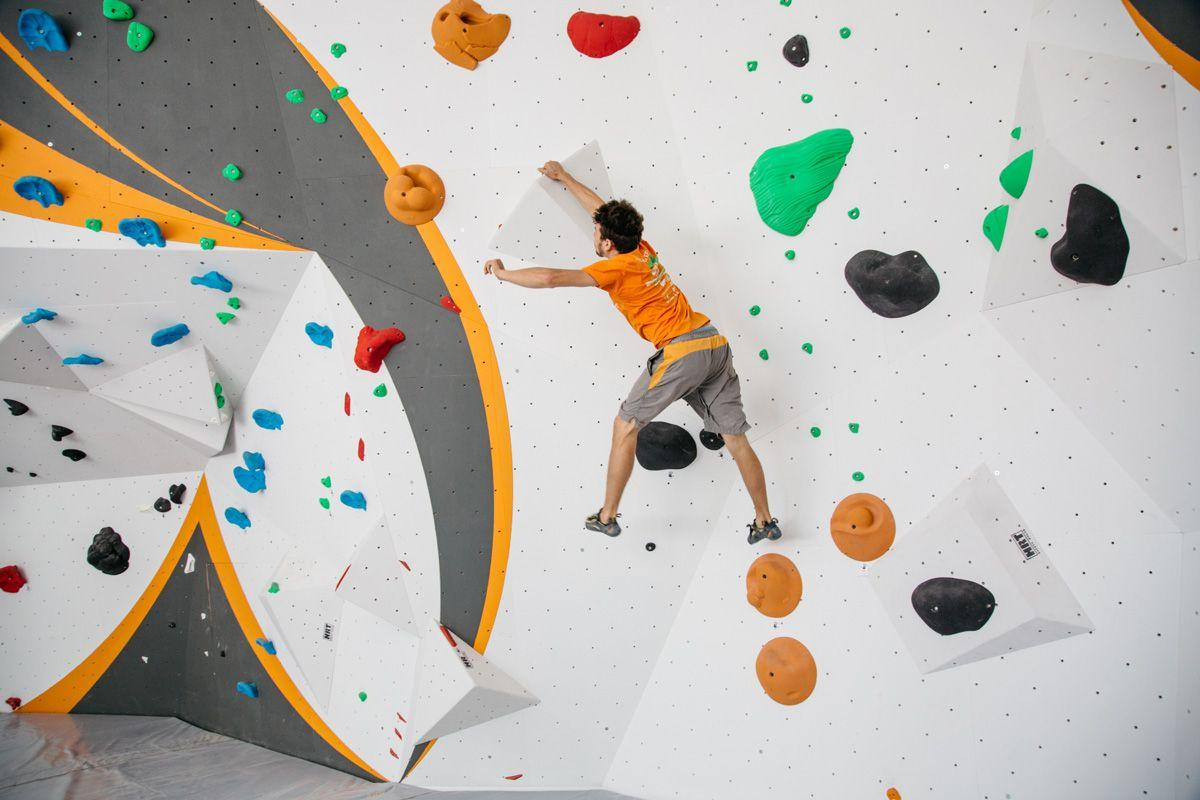black-hold: (729, 97, 869, 245), (836, 222, 949, 336), (1042, 179, 1148, 296), (742, 624, 832, 718), (420, 0, 516, 79), (907, 568, 1002, 641), (340, 309, 410, 380), (830, 491, 897, 563), (741, 549, 807, 621), (562, 8, 642, 64), (77, 521, 142, 586), (633, 416, 700, 474), (384, 164, 446, 225), (9, 168, 70, 215), (994, 140, 1038, 202), (17, 7, 70, 53), (977, 200, 1011, 255), (116, 216, 169, 249), (231, 449, 267, 494), (189, 265, 236, 295), (146, 320, 192, 350), (247, 403, 287, 435), (219, 503, 257, 534), (780, 33, 812, 69), (301, 320, 338, 350), (694, 424, 728, 455), (19, 303, 60, 327), (0, 392, 31, 422), (126, 21, 154, 53), (0, 564, 28, 594), (218, 159, 247, 187), (436, 292, 466, 319), (253, 632, 281, 660), (102, 0, 137, 22), (150, 492, 175, 518), (165, 480, 189, 507), (60, 443, 88, 466), (221, 205, 246, 230), (62, 352, 106, 365), (213, 304, 237, 327), (307, 105, 330, 128), (51, 423, 75, 443), (327, 83, 351, 102), (328, 40, 349, 61), (236, 681, 260, 699), (212, 381, 227, 409), (371, 382, 389, 400), (846, 205, 864, 223), (746, 302, 764, 320), (1032, 225, 1051, 241), (285, 89, 305, 104), (225, 295, 242, 312), (317, 495, 333, 513), (84, 218, 103, 233), (184, 552, 196, 575), (318, 474, 334, 491), (799, 340, 816, 356), (756, 346, 772, 363), (4, 696, 22, 711), (837, 25, 853, 41), (267, 580, 282, 596), (199, 237, 216, 251), (357, 437, 366, 463), (343, 391, 352, 417), (886, 786, 902, 800), (356, 689, 370, 704), (810, 426, 821, 439), (784, 250, 796, 261), (644, 541, 656, 552), (27, 470, 39, 480), (167, 620, 178, 630), (849, 424, 861, 433), (853, 473, 864, 481), (5, 466, 15, 474)
